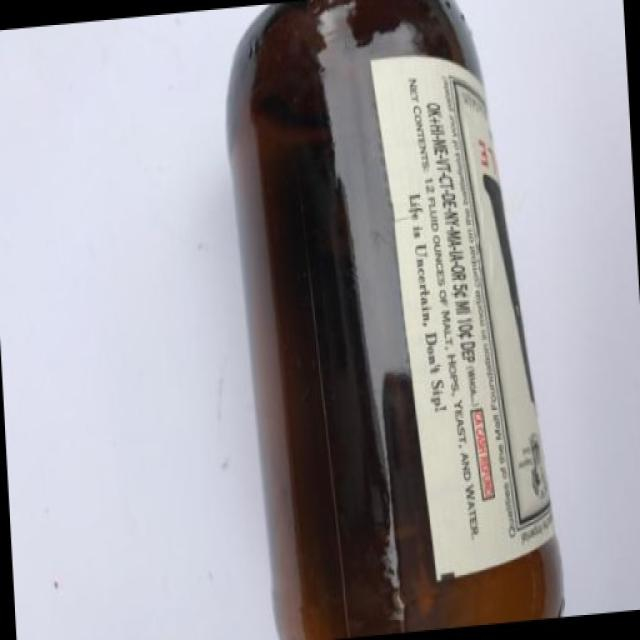vidrio: (206, 0, 607, 640)
